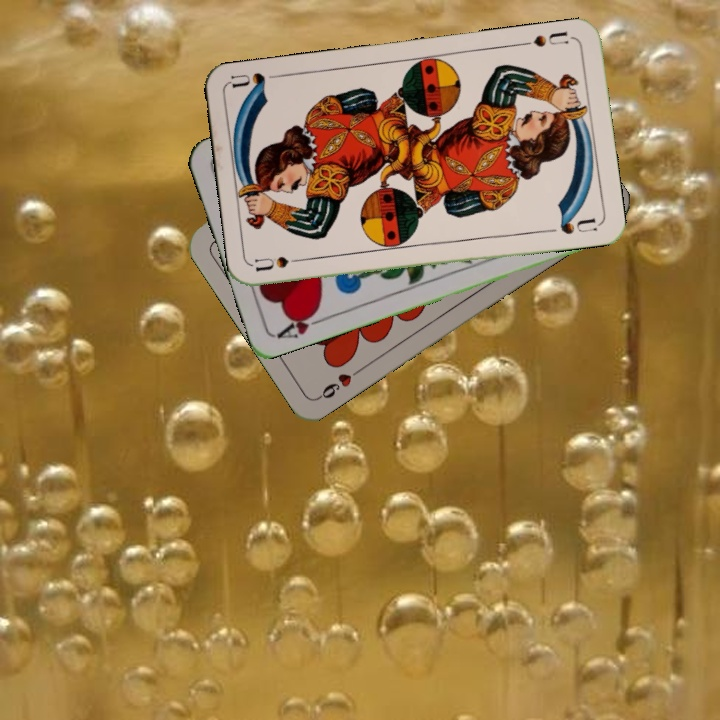H9: (314, 363, 366, 402)
HA: (273, 304, 330, 341)
SU: (252, 252, 311, 276), (516, 27, 571, 50)
